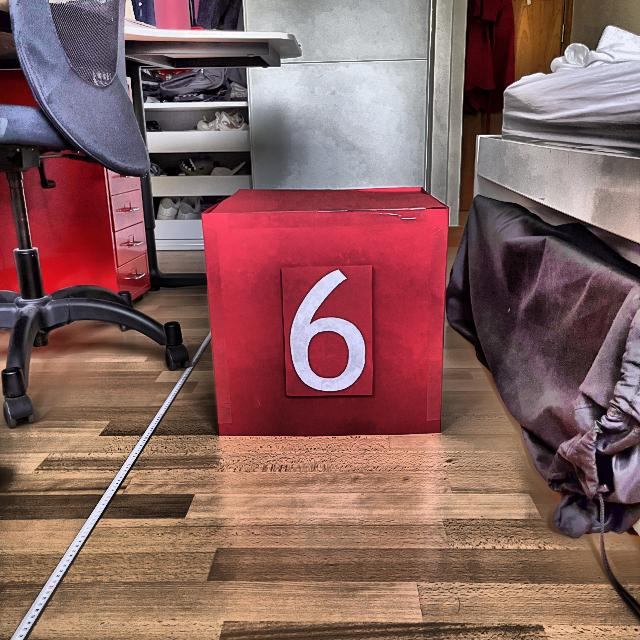red box: (202, 186, 450, 439)
six: (289, 270, 369, 395)
